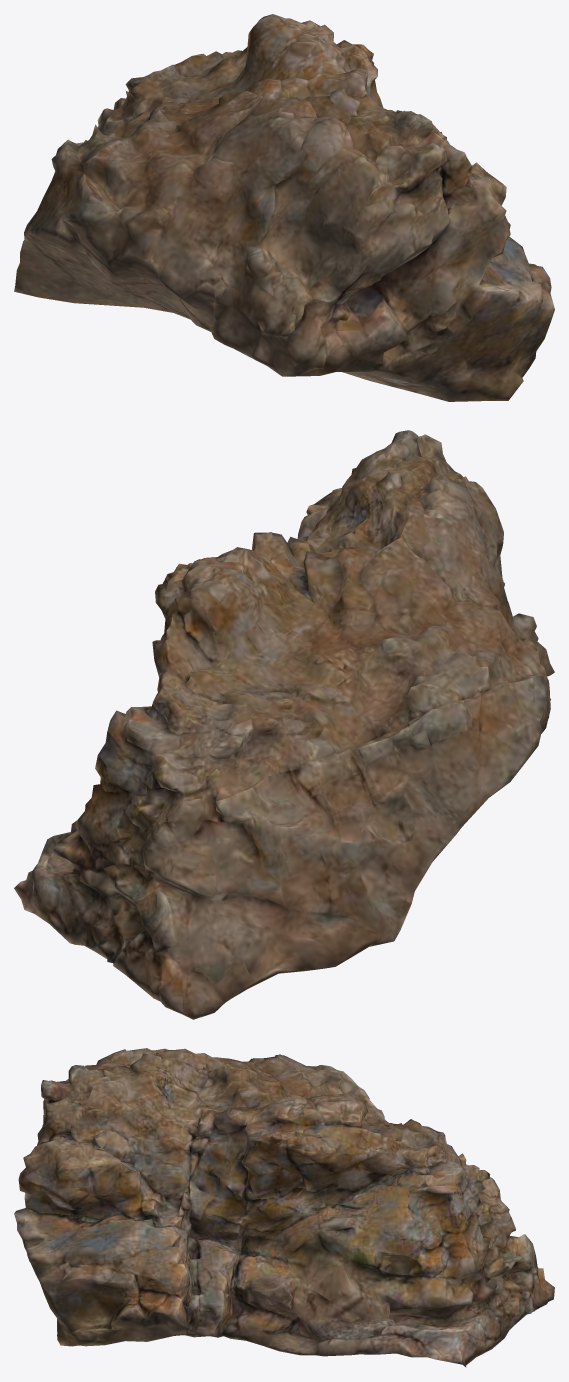
Rendered from lava.glb.
The picture shows the model from 3 angles, top to bottom: view 1: azimuth 30°, elevation 25°; view 2: azimuth 150°, elevation 25°; view 3: azimuth 270°, elevation 25°; orthographic projection. The views are drawn at different scales.
Visible parts, largest first — view 1: boulder_01; view 2: boulder_01; view 3: boulder_01.
Part boxes in pixels (x1,y1,x2,y2): boulder_01: (14,14,554,401); boulder_01: (14,430,554,1019); boulder_01: (14,1048,554,1367).
Size of the model in its own units: 1.27 by 1 by 1.83.
1 material, 1 textured.
